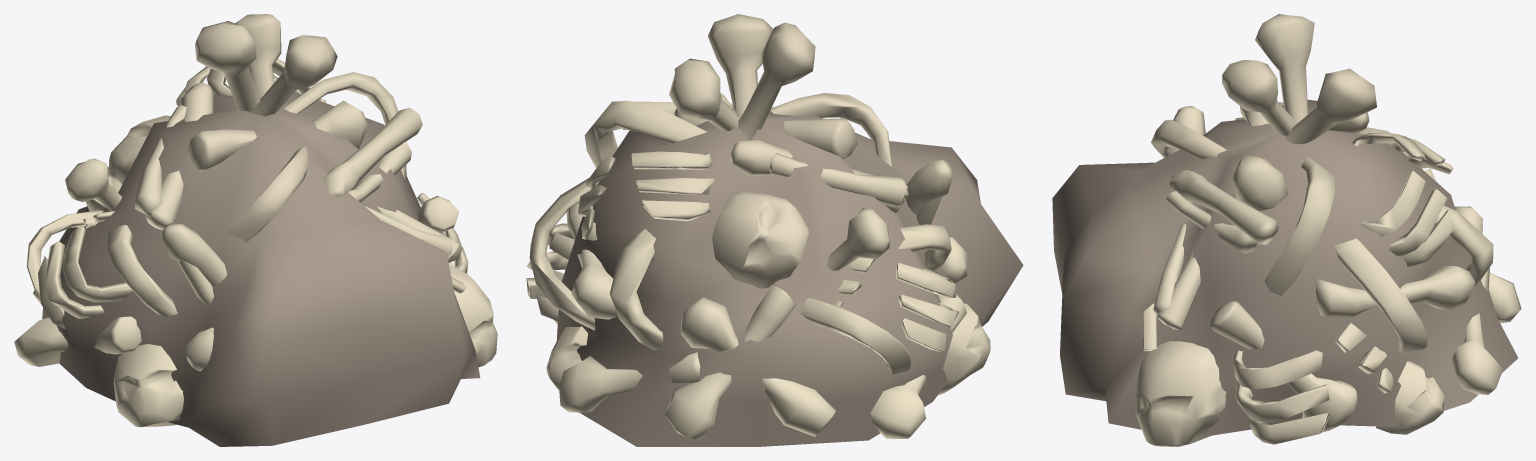
The model's file is skeleton_cave(low) 1.fbx.
The picture shows the model from 3 angles, left to right: view 1: azimuth 30°, elevation 25°; view 2: azimuth 150°, elevation 25°; view 3: azimuth 270°, elevation 25°; orthographic projection. The views are drawn at different scales.
Visible parts, largest first — view 1: skeleton_cave; view 2: skeleton_cave; view 3: skeleton_cave.
Boxes of the visible parts, x1=… form: skeleton_cave: x1=14, y1=14, x2=497, y2=446; skeleton_cave: x1=526, y1=14, x2=1023, y2=446; skeleton_cave: x1=1052, y1=14, x2=1521, y2=446.
Bounding box in the file's own units: 20.6 × 17.22 × 20.73.
